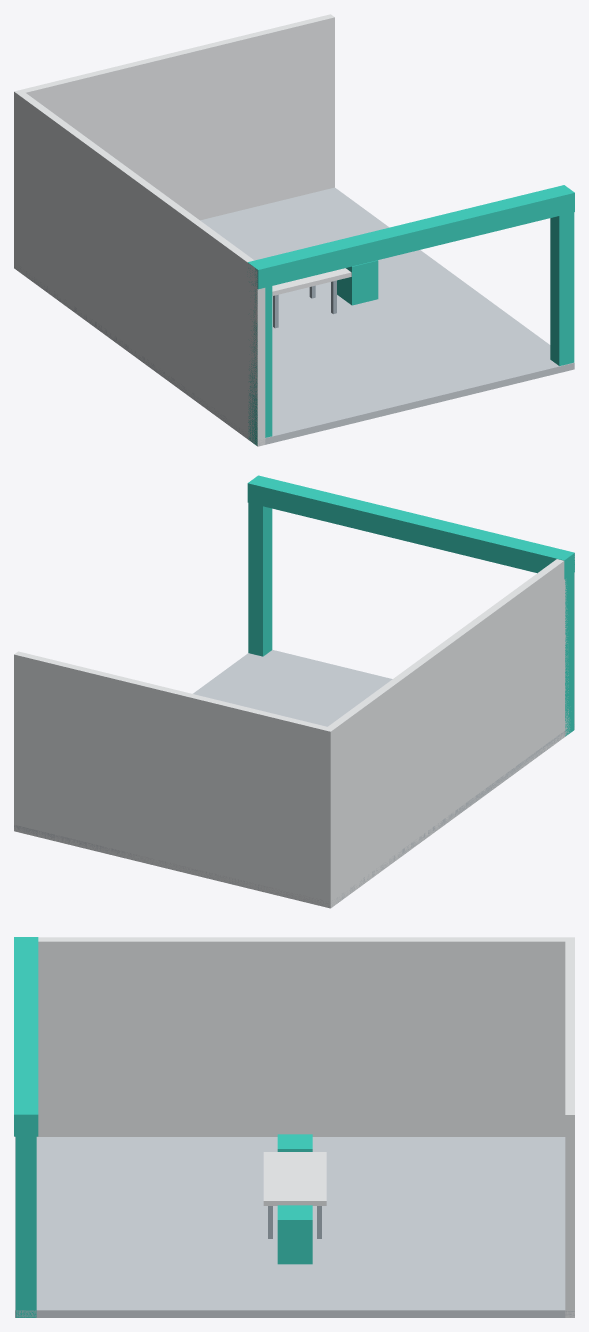
3 views of the same model, one above another, from view 1: azimuth 30°, elevation 25°; view 2: azimuth 150°, elevation 25°; view 3: azimuth 270°, elevation 25° (orthographic). The views are drawn at different scales.
Visible parts, largest first — view 1: Exhibition Booth Concept; view 2: Exhibition Booth Concept; view 3: Exhibition Booth Concept.
Boxes of the visible parts, left/top/right/bottom form: Exhibition Booth Concept: left=14, top=14, right=574, bottom=446; Exhibition Booth Concept: left=14, top=475, right=574, bottom=908; Exhibition Booth Concept: left=14, top=937, right=574, bottom=1317.
Bounding box in the file's own units: 6 × 3.2 × 8.01.
